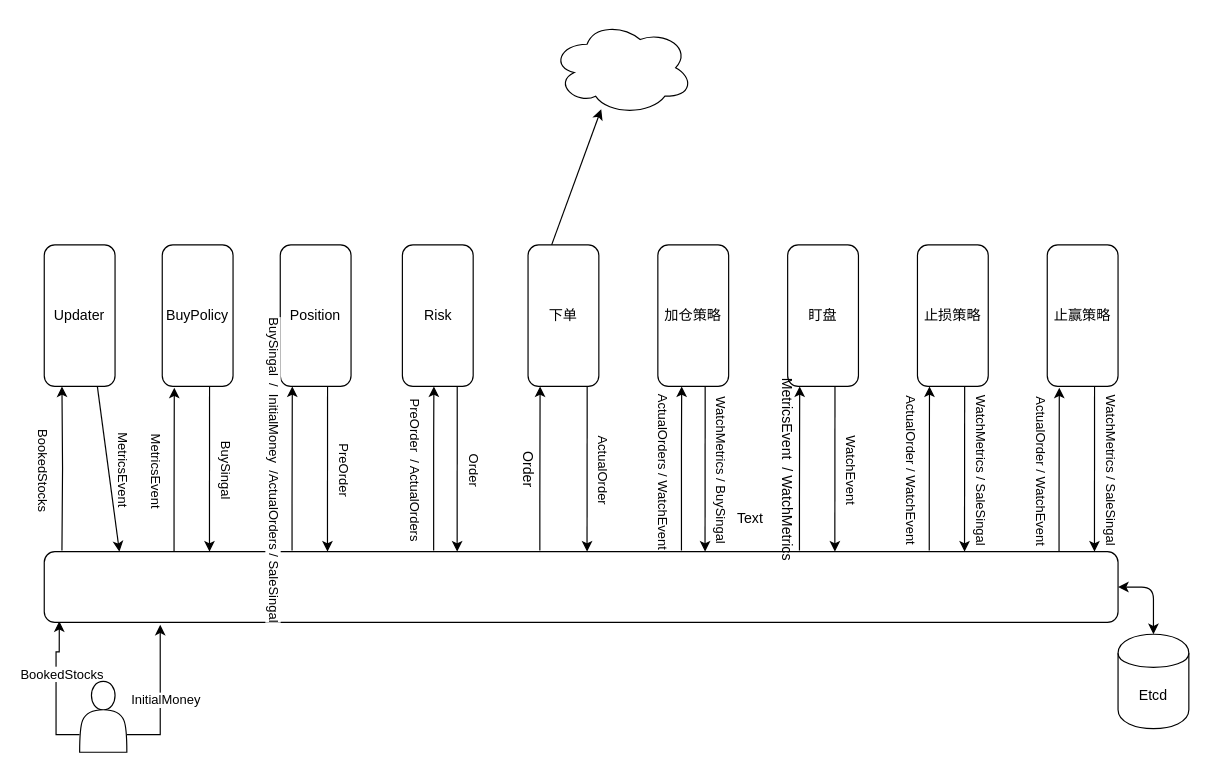
Some shapes in this 1210 by 773 pixel diagram are drawn without their labels. Each missing label, with the box of its shape:
Api-server: (43, 550, 1118, 622)
证券公司: (550, 19, 693, 115)
